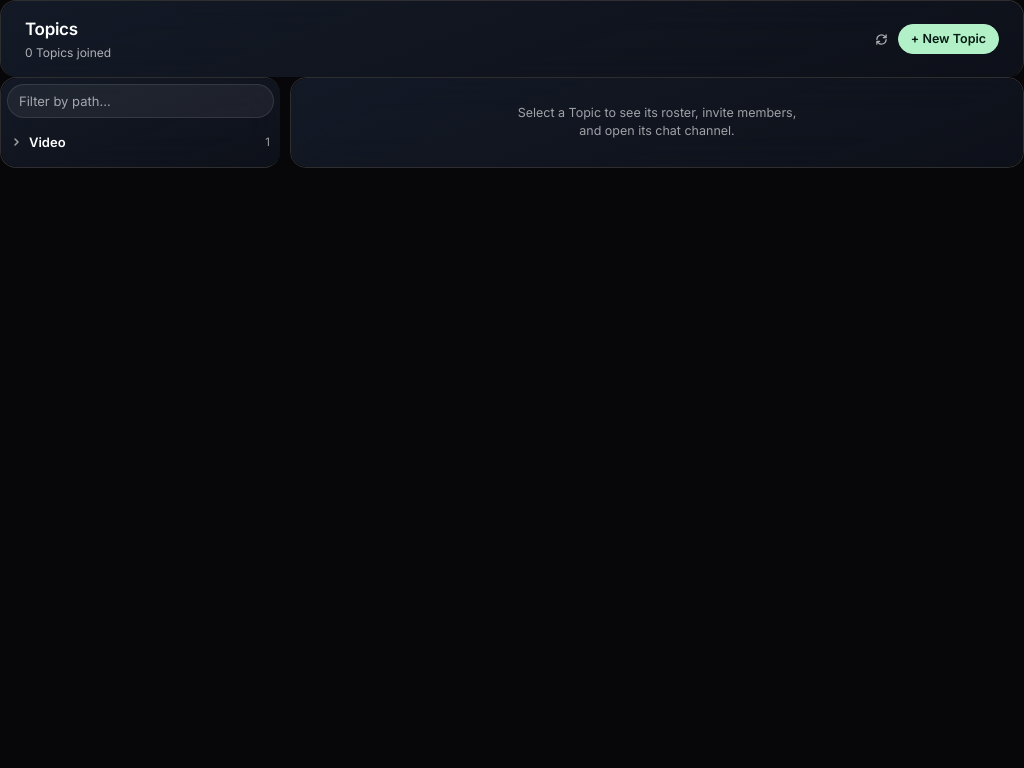
Scenario: review 3 — after a successful join the detail pane shows the JOINED view › the unjoined selection is cleared even when the joined record does not match by name
The width and height of the screenshot is (1024, 768).
Click the button with class "root-header". click: (47, 142)
box: top-left (7, 124), bottom-right (274, 161)
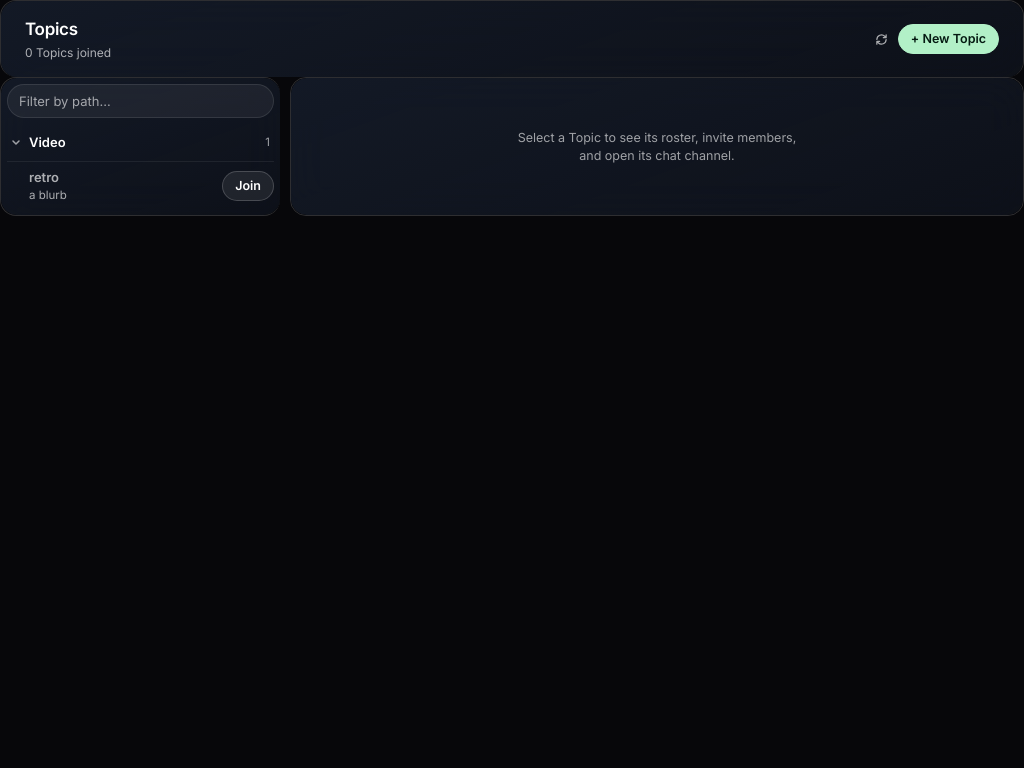
Expected: the text "retro" is shown, top-left (29, 169), bottom-right (59, 185)
Click the button with class "name". click: (48, 195)
box: top-left (7, 161), bottom-right (274, 209)
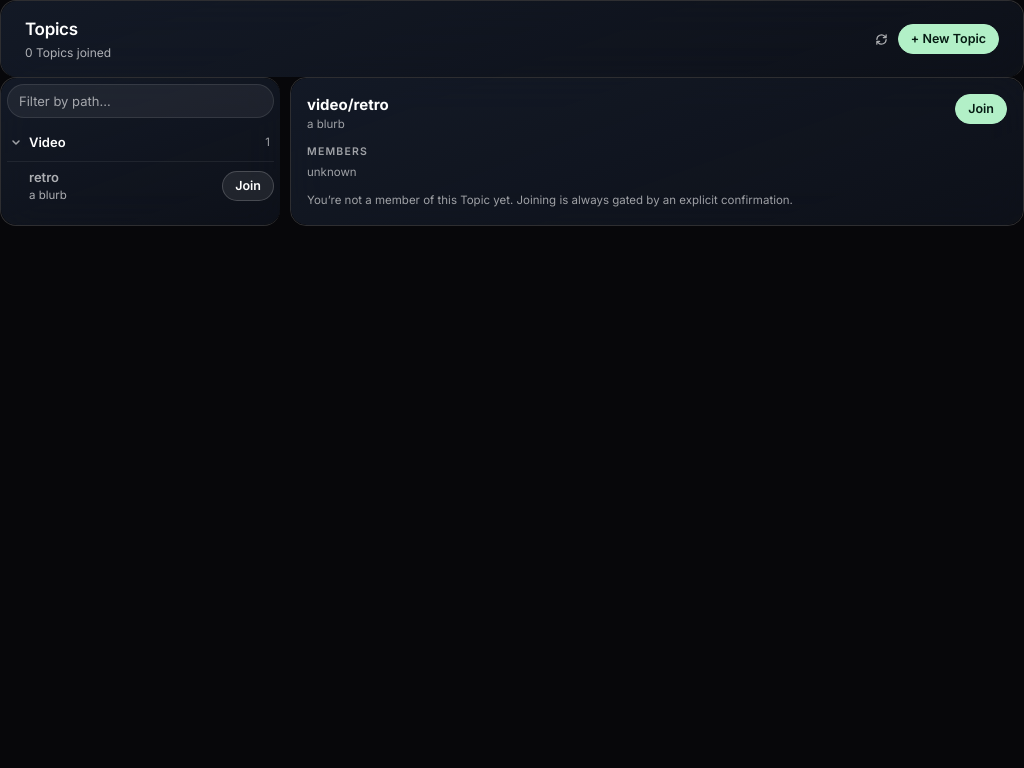
Expected: the text "not a member" is shown, top-left (307, 193), bottom-right (793, 207)
Click the button "Join" in the row of "video/retro". click: (981, 109)
box: top-left (955, 94), bottom-right (1007, 124)
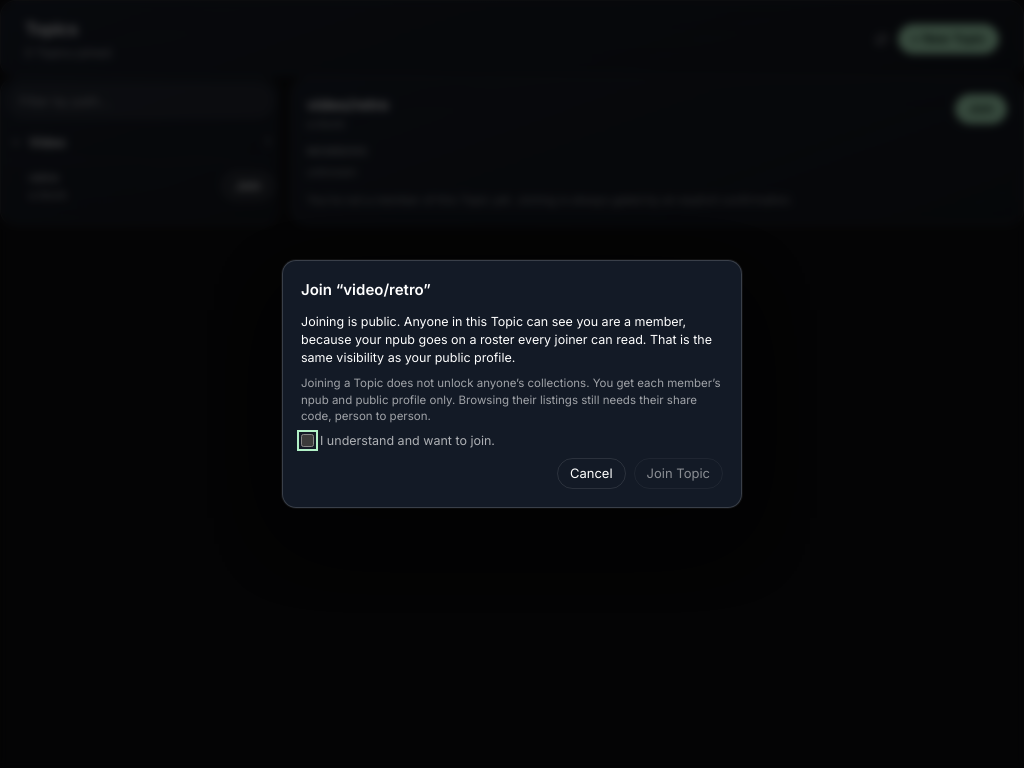
Expected: the checkbox labelled "I understand and want to join." is shown
Click the checkbox labelled "I understand and want to join.". click: (308, 441)
box: top-left (301, 434), bottom-right (314, 447)
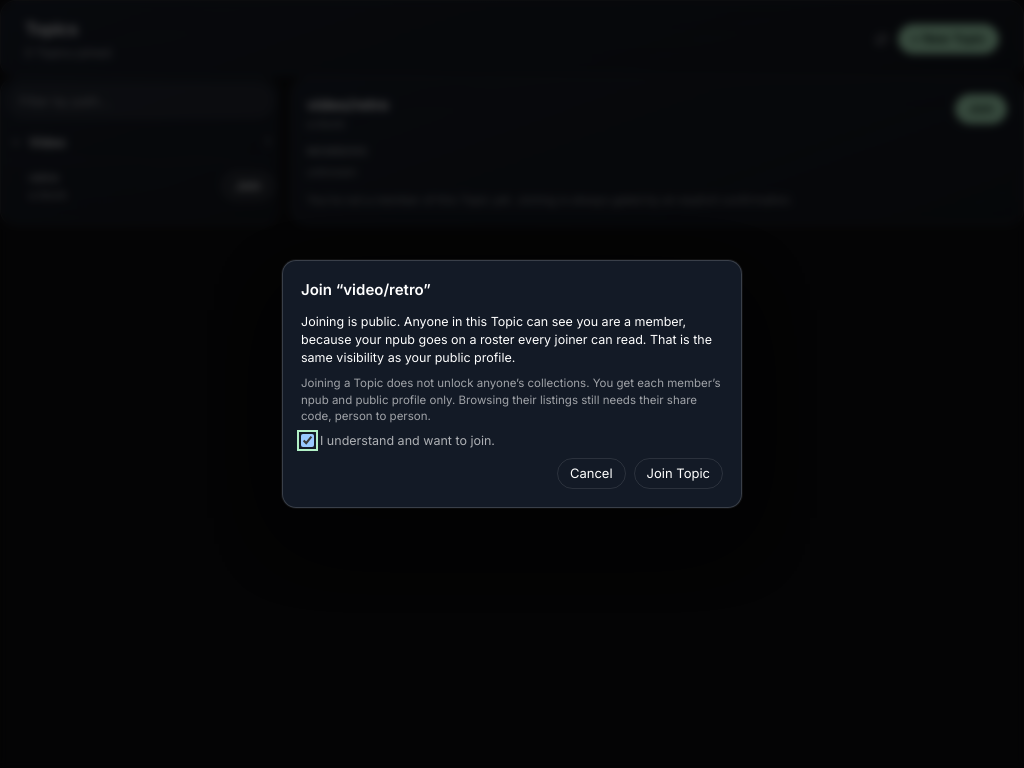
Click the button "Join Topic". click: (678, 473)
box: top-left (634, 458), bottom-right (723, 489)
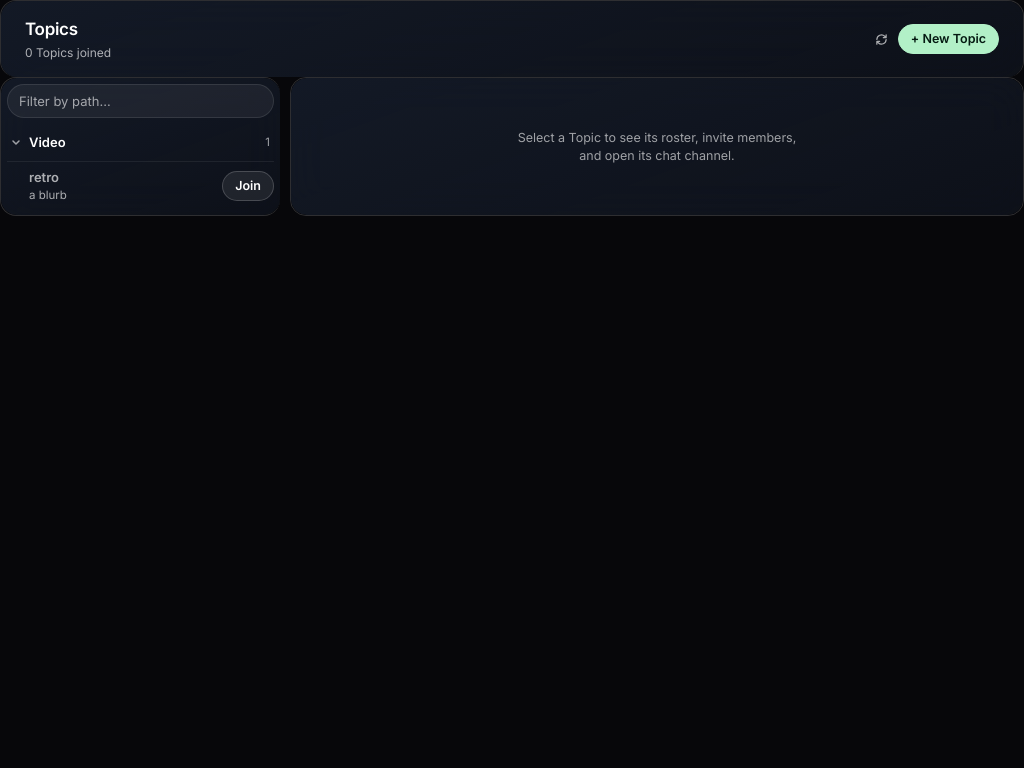
Expected: the text "not a member" is not shown
Expected: the text "Select a Topic" is shown, top-left (518, 130), bottom-right (796, 163)
